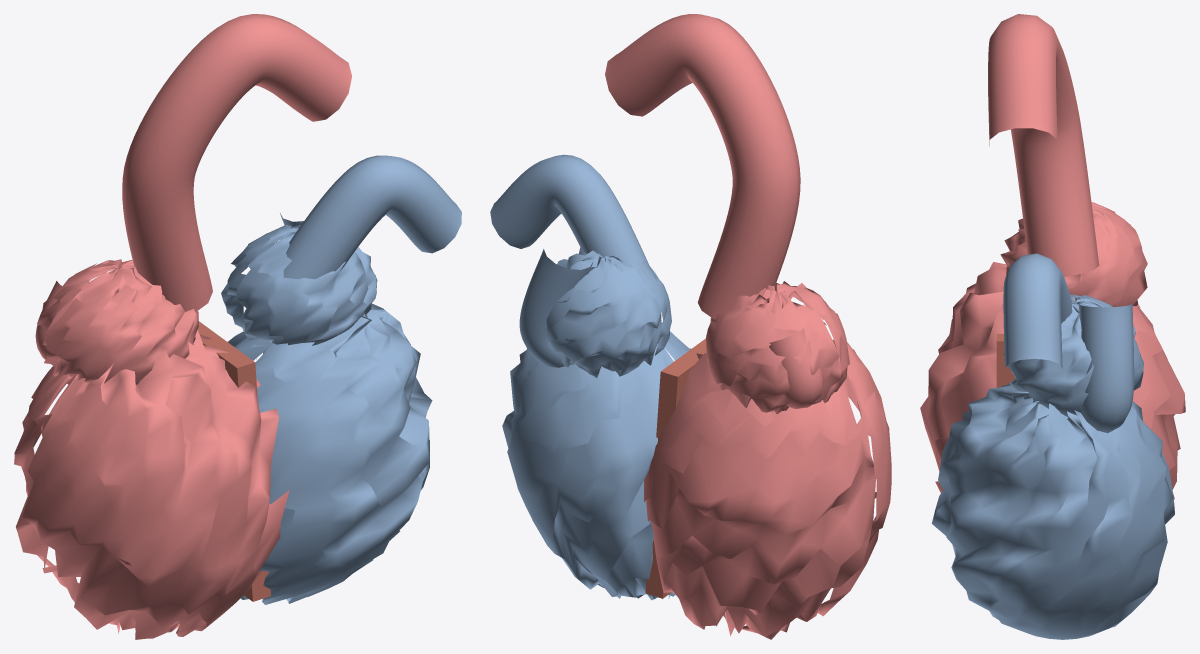
File: heart.glb
3 views of the same model, side by side, from view 1: azimuth 30°, elevation 25°; view 2: azimuth 150°, elevation 25°; view 3: azimuth 270°, elevation 25° (orthographic). The views are drawn at different scales.
Visible parts, largest first — view 1: left_ventricle, right_ventricle, aorta, left_atrium, pulmonary_artery, right_atrium, septum, pulmonary_vein; view 2: left_ventricle, right_ventricle, aorta, left_atrium, right_atrium, pulmonary_artery, vena_cava, septum, pulmonary_vein; view 3: right_ventricle, aorta, left_ventricle, pulmonary_artery, vena_cava, left_atrium, right_atrium, septum.
Part boxes in pixels (x1=…): left_ventricle: x1=14, y1=329, x2=289, y2=639; right_ventricle: x1=228, y1=303, x2=432, y2=604; aorta: x1=122, y1=14, x2=351, y2=312; left_atrium: x1=37, y1=259, x2=198, y2=384; pulmonary_artery: x1=283, y1=155, x2=461, y2=279; right_atrium: x1=221, y1=224, x2=377, y2=349; septum: x1=197, y1=321, x2=270, y2=601; pulmonary_vein: x1=35, y1=281, x2=76, y2=366; left_ventricle: x1=644, y1=339, x2=891, y2=639; right_ventricle: x1=502, y1=322, x2=690, y2=600; aorta: x1=605, y1=14, x2=800, y2=319; left_atrium: x1=706, y1=281, x2=849, y2=414; right_atrium: x1=546, y1=247, x2=671, y2=377; pulmonary_artery: x1=490, y1=154, x2=655, y2=298; vena_cava: x1=519, y1=249, x2=593, y2=367; septum: x1=645, y1=338, x2=706, y2=598; pulmonary_vein: x1=769, y1=328, x2=824, y2=408; right_ventricle: x1=931, y1=383, x2=1174, y2=639; aorta: x1=988, y1=14, x2=1099, y2=276; left_ventricle: x1=920, y1=262, x2=1185, y2=499; pulmonary_artery: x1=1003, y1=253, x2=1072, y2=368; vena_cava: x1=1079, y1=304, x2=1134, y2=433; left_atrium: x1=1000, y1=202, x2=1147, y2=306; right_atrium: x1=1003, y1=294, x2=1143, y2=416; septum: x1=996, y1=334, x2=1014, y2=387.
Bounding box in the file's own units: 1.1 × 1.55 × 0.6189.
